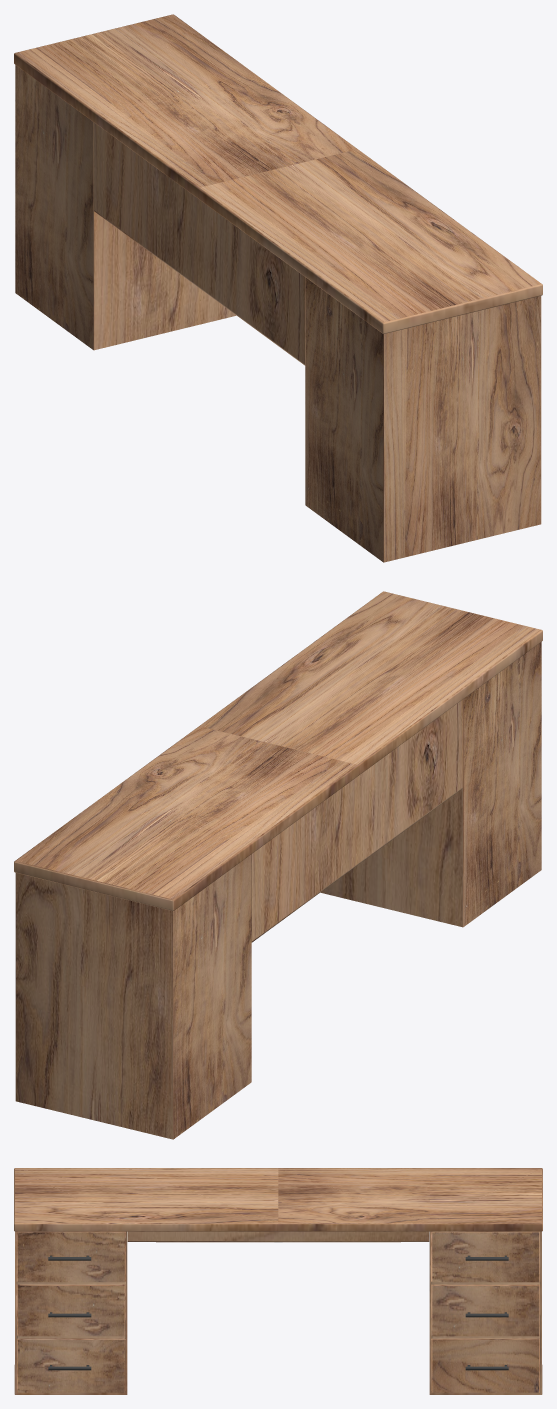
Rendered from table.obj.
The picture shows the model from 3 angles, top to bottom: view 1: azimuth 30°, elevation 25°; view 2: azimuth 150°, elevation 25°; view 3: azimuth 270°, elevation 25°; orthographic projection. The views are drawn at different scales.
Parts seen in each view (by area): view 1: Cube; view 2: Cube; view 3: Cube, dawers_Cube.002, dawers.003_Cube.005, dawers.001_Cube.003, dawers.004_Cube.006, dawers.002_Cube.004, dawers.005_Cube.007.
Boxes of the visible parts, <box> form: Cube: <box>14,14,542,562</box>; Cube: <box>14,591,542,1139</box>; Cube: <box>14,1168,542,1394</box>; dawers_Cube.002: <box>432,1338,539,1392</box>; dawers.003_Cube.005: <box>17,1338,124,1392</box>; dawers.001_Cube.003: <box>432,1284,539,1336</box>; dawers.004_Cube.006: <box>17,1284,124,1336</box>; dawers.002_Cube.004: <box>432,1232,539,1282</box>; dawers.005_Cube.007: <box>17,1232,124,1282</box>.
Size of the model in its own units: 2.13 by 2.88 by 8.05.
